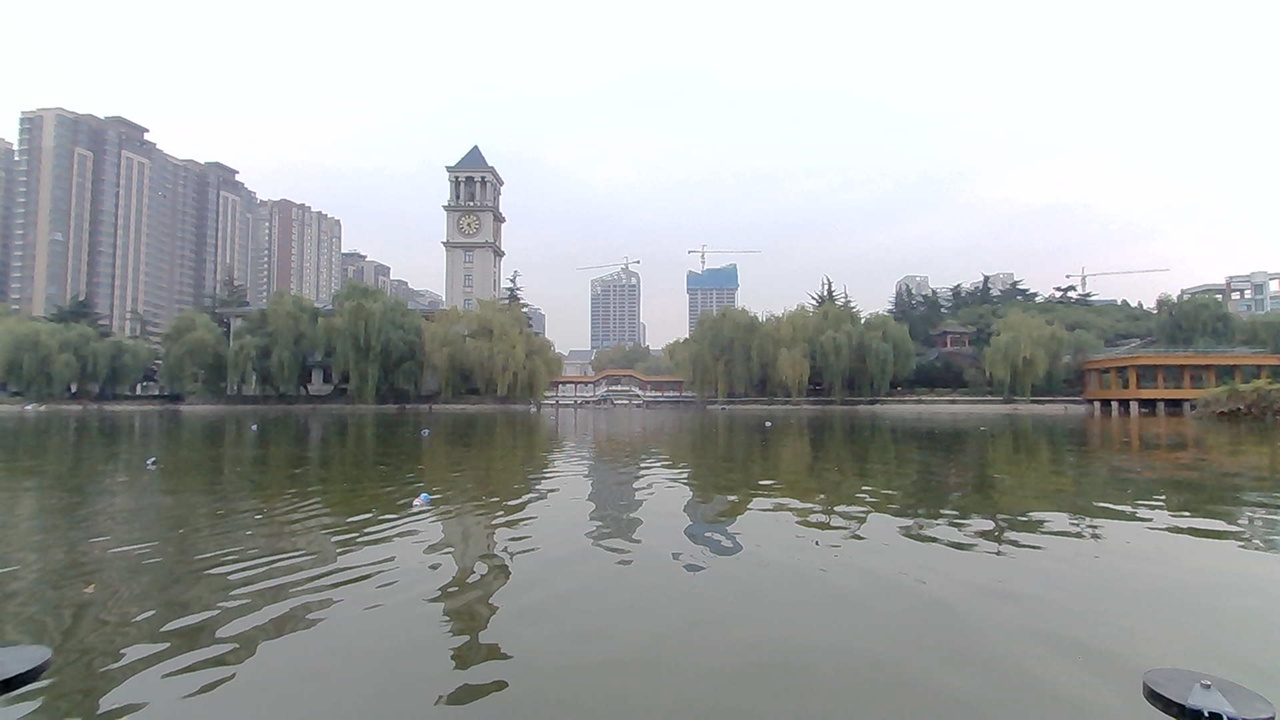bottle: (380, 486, 440, 519), (133, 451, 174, 474), (751, 416, 790, 439), (407, 415, 444, 439), (233, 414, 269, 438)
